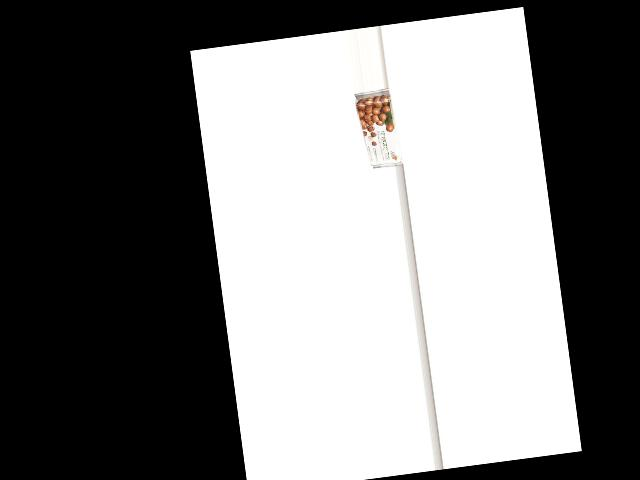chocolate: (353, 89, 400, 170)
